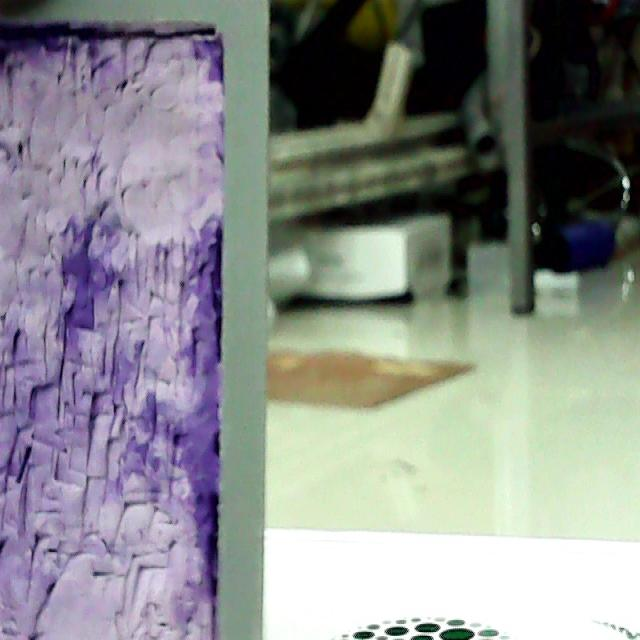block: (5, 22, 276, 640)
